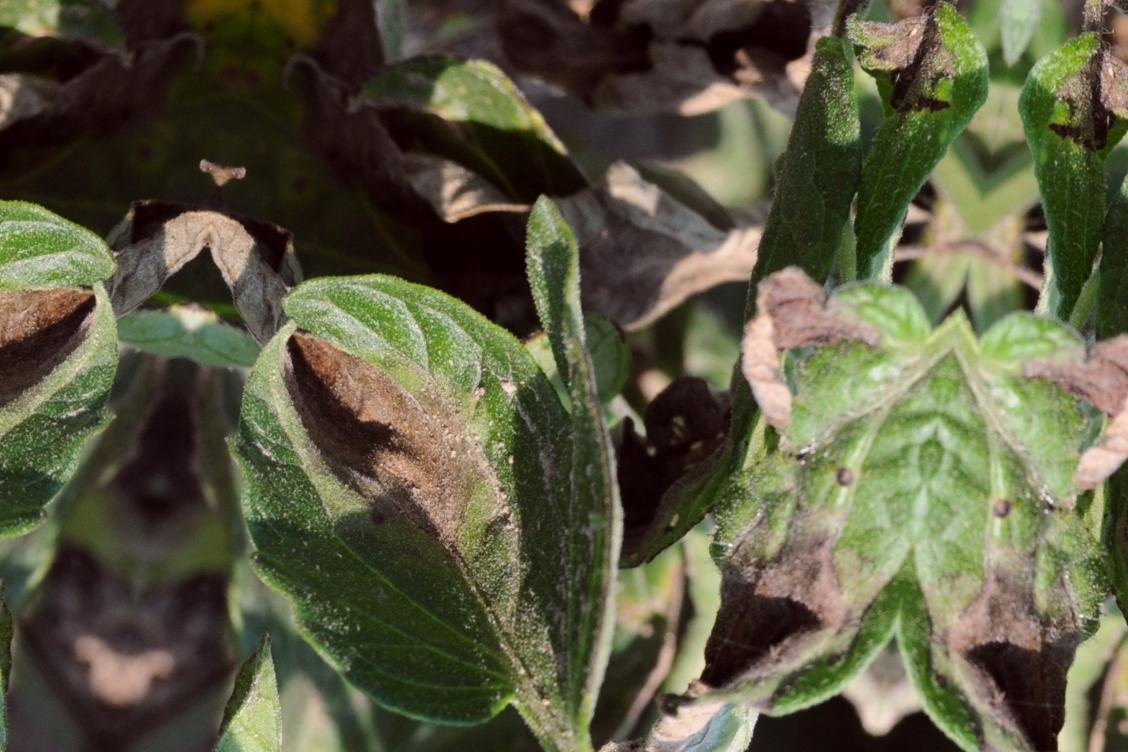Tomato leaf late blight: (129, 204, 687, 752), (639, 188, 976, 724)
